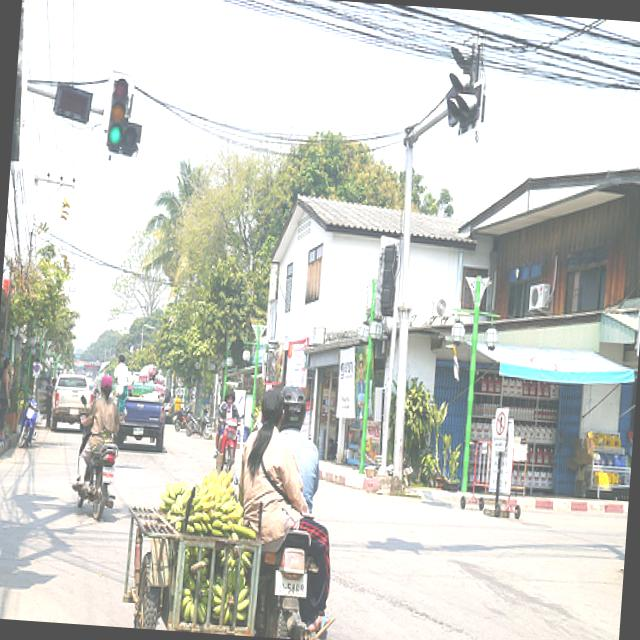Vehicle: (255, 521, 323, 640), (71, 392, 123, 526), (111, 361, 169, 452), (49, 374, 95, 434), (18, 388, 42, 448), (212, 418, 236, 476), (184, 403, 214, 440), (173, 409, 188, 433)
